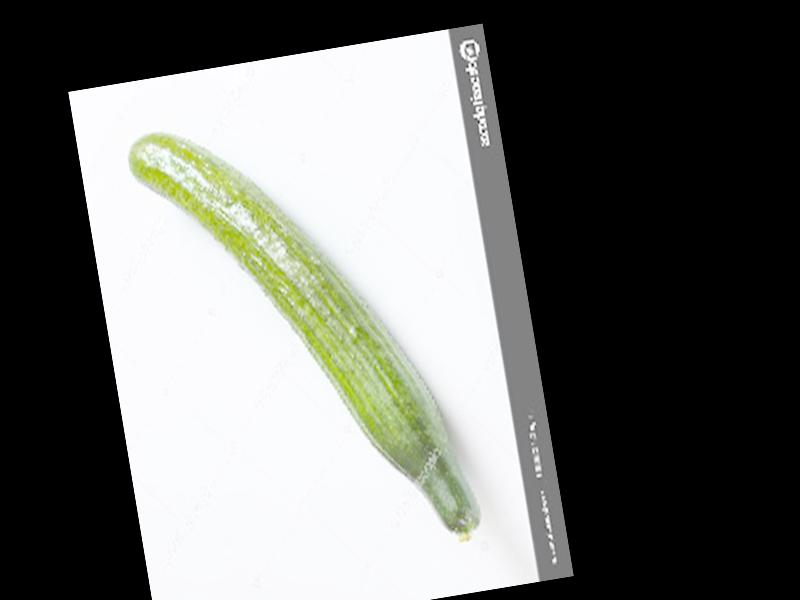Cucumber: (125, 93, 481, 585)
